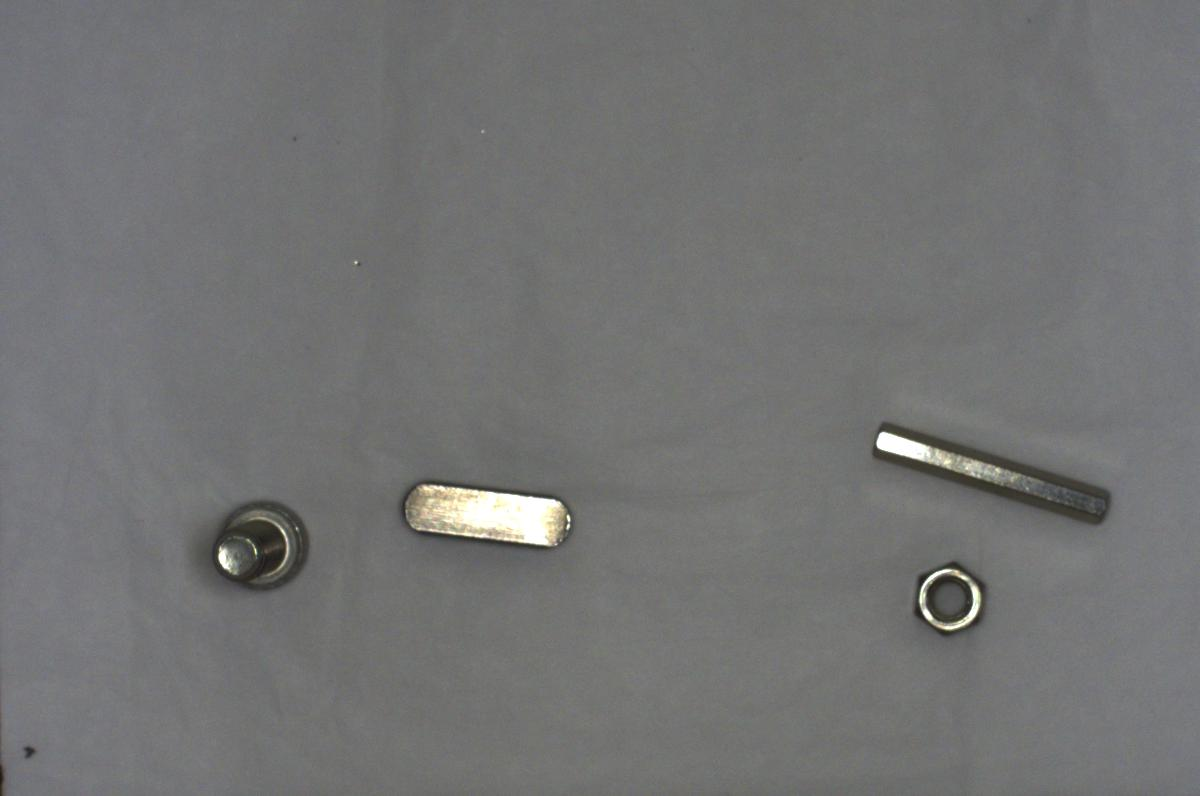Double hexagonal column: (860, 415, 1120, 526)
Hexagon nut: (898, 555, 1000, 643)
Hexagon screw: (204, 495, 308, 593)
Keybar: (387, 473, 579, 561)
